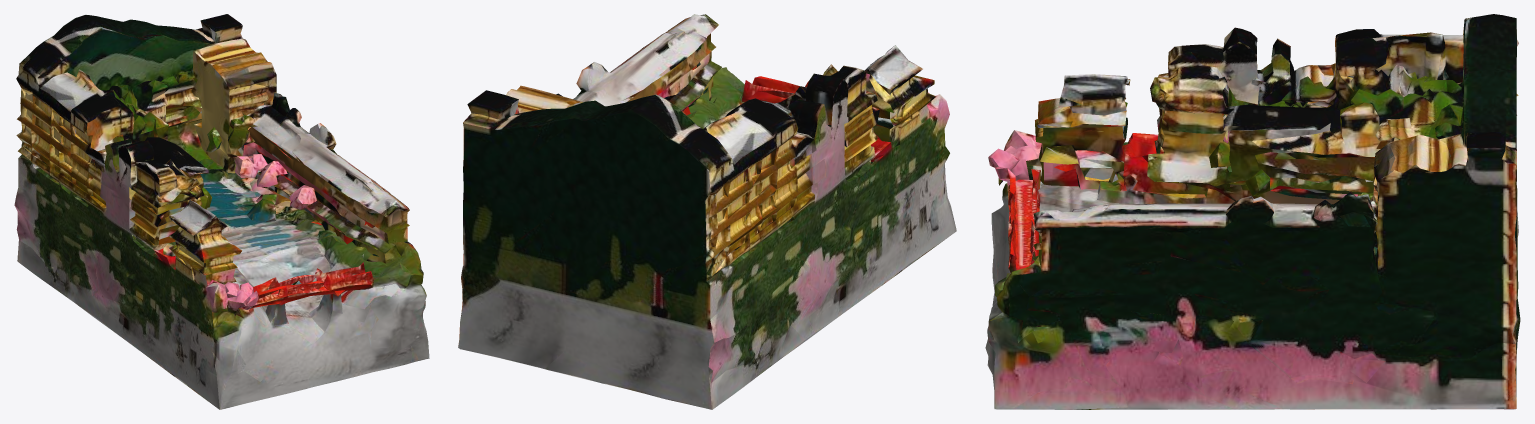
Rendered from gero-onsen.glb.
3 renders of one model, left to right at view 1: azimuth 30°, elevation 25°; view 2: azimuth 150°, elevation 25°; view 3: azimuth 270°, elevation 25°, orthographic. The views are drawn at different scales.
Parts seen in each view (by area): view 1: logan-textured.obj; view 2: logan-textured.obj; view 3: logan-textured.obj.
Part boxes in pixels (<box>): logan-textured.obj: <box>14,14,429,409</box>; logan-textured.obj: <box>458,14,956,409</box>; logan-textured.obj: <box>985,14,1520,409</box>.
Size of the model in its own units: 0.6033 by 0.6213 by 1.
Materials: 1 (1 with a texture image).
